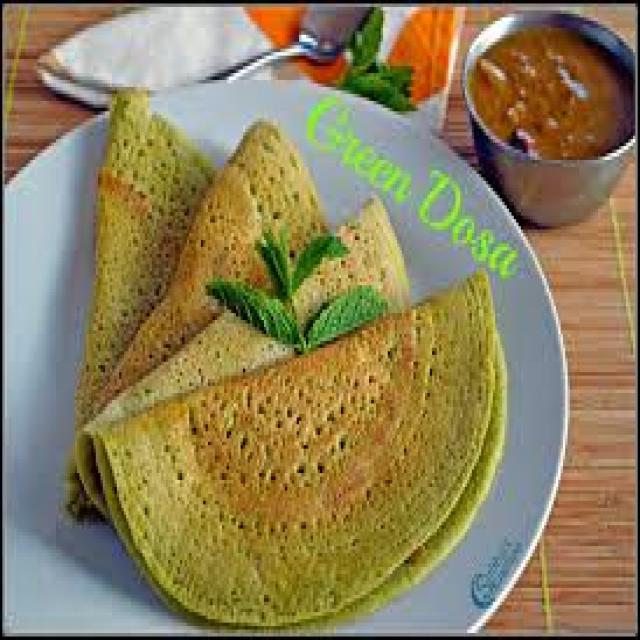DOSA: (96, 270, 508, 637), (71, 193, 410, 506), (88, 115, 330, 398), (60, 79, 212, 512)
